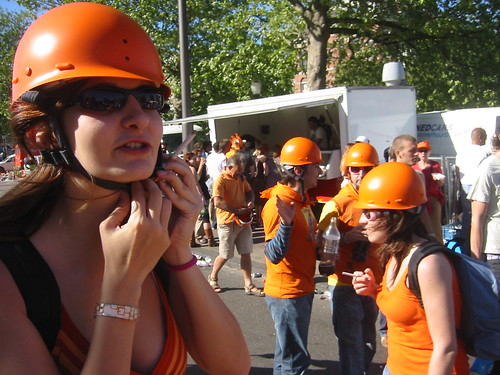helmet: (4, 3, 169, 87), (357, 161, 432, 206), (277, 134, 320, 161), (336, 140, 376, 163)
